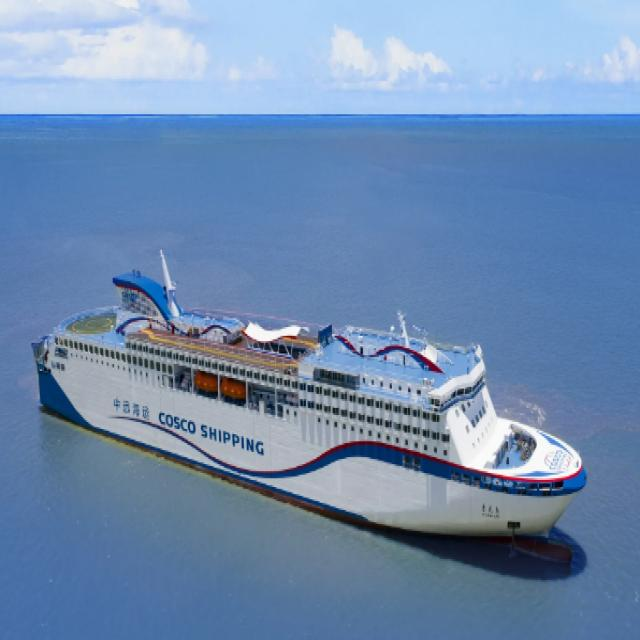houseboat: (29, 229, 595, 562)
